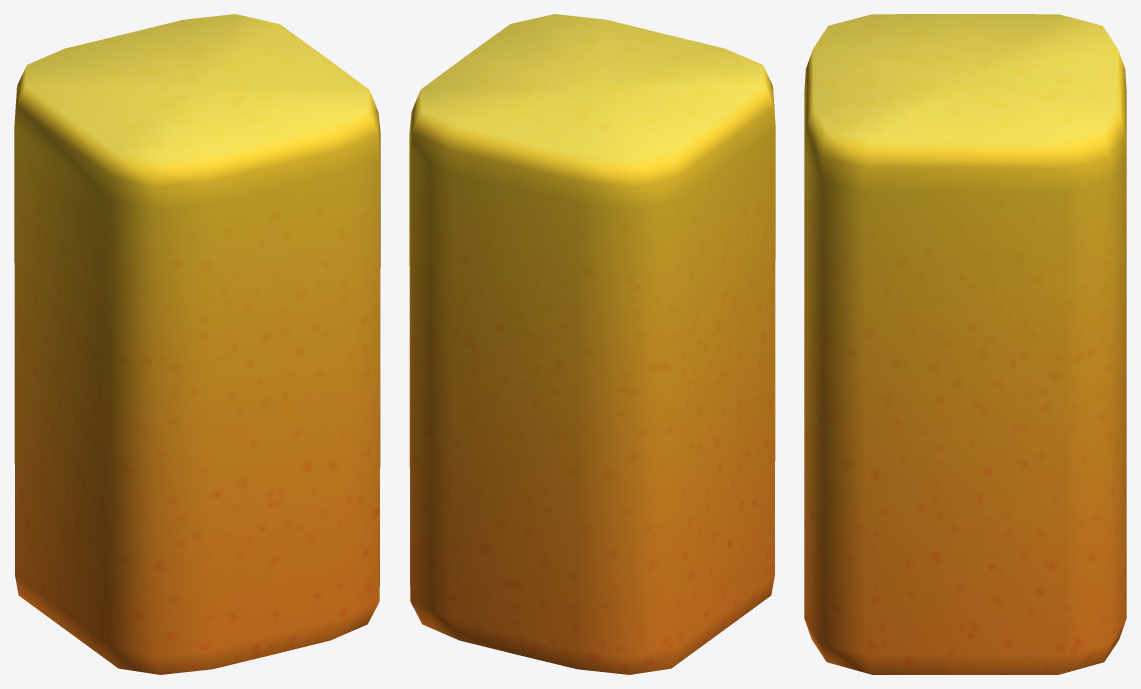
File: Juice_Bottle_Liquid005.FBX
The picture shows the model from 3 angles, left to right: view 1: azimuth 30°, elevation 25°; view 2: azimuth 150°, elevation 25°; view 3: azimuth 270°, elevation 25°; orthographic projection. The views are drawn at different scales.
Parts seen in each view (by area): view 1: Juice_Bottle_Liquid005; view 2: Juice_Bottle_Liquid005; view 3: Juice_Bottle_Liquid005.
Part boxes in pixels (bbox=[...]): Juice_Bottle_Liquid005: bbox=[14, 14, 380, 674]; Juice_Bottle_Liquid005: bbox=[409, 14, 775, 674]; Juice_Bottle_Liquid005: bbox=[804, 14, 1126, 674].
Size of the model in its own units: 9.49 by 17.28 by 9.5.
